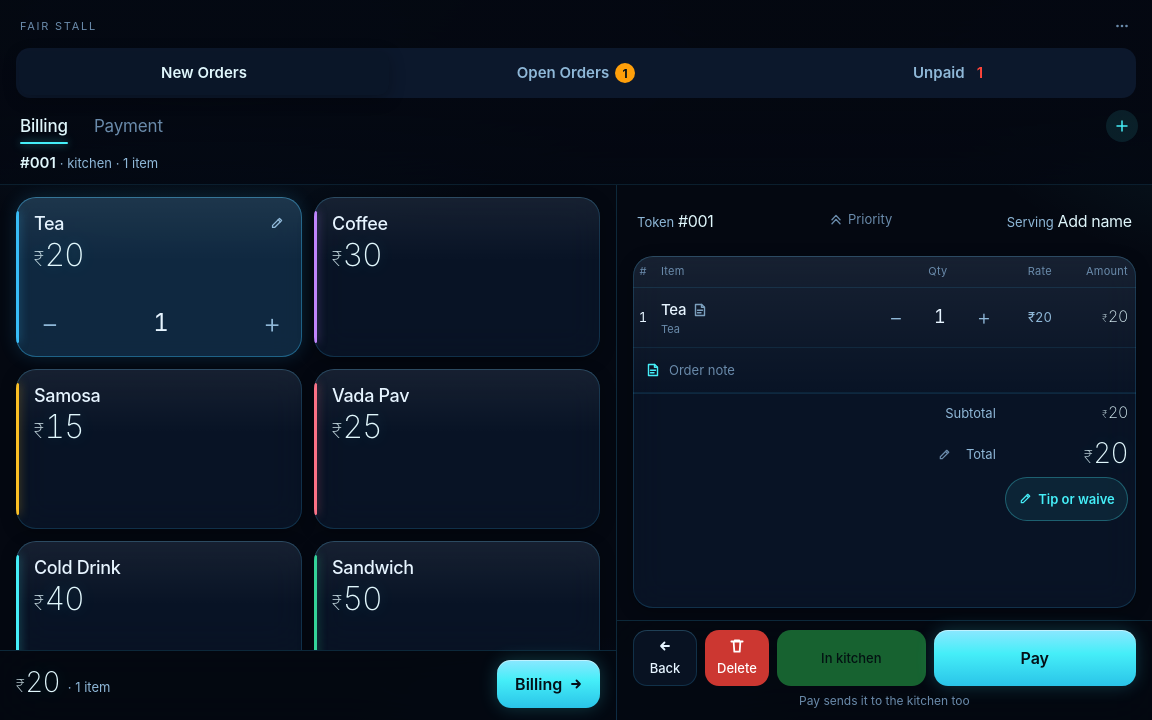
Scenario: P2 Counter › Unpaid tab lists the order with what is owed; tapping opens it; Take payment goes to Payment
Click the tab "Unpaid 1" at (948, 73), box top-left (763, 51), bottom-right (1133, 95)
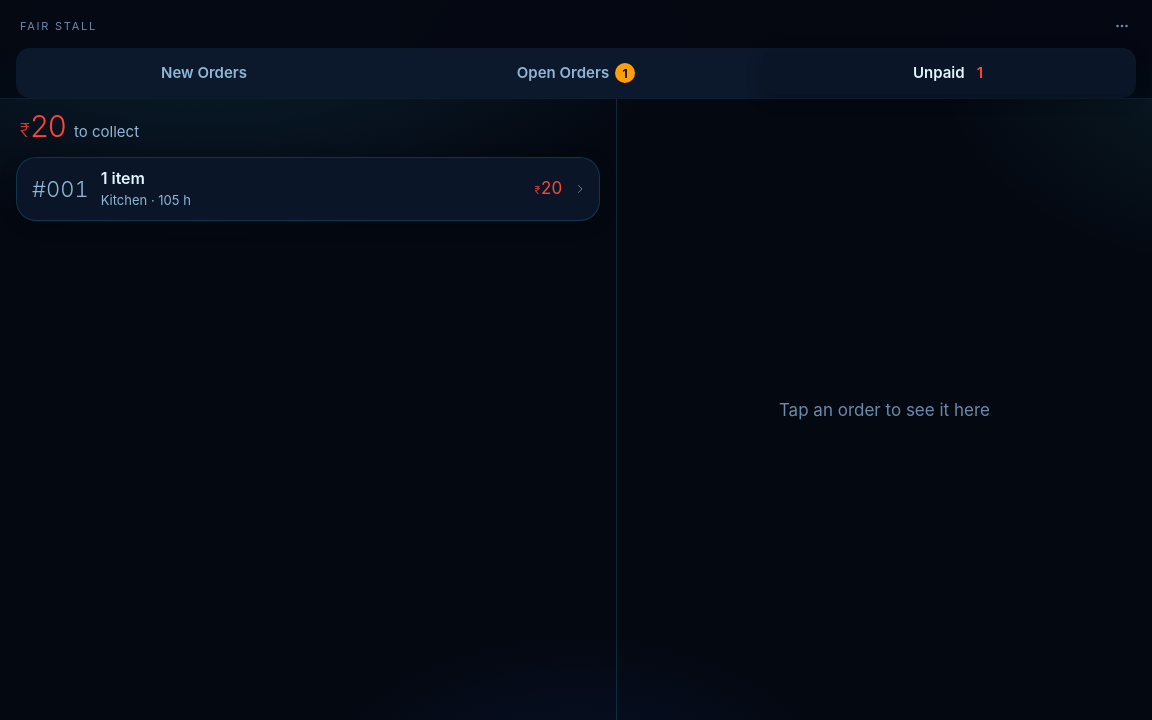
Now the text "to collect" is shown, box top-left (74, 121), bottom-right (139, 143)
Click the button "#001 1 item Kitchen · 105 h ₹20" at (60, 189), box top-left (16, 157), bottom-right (600, 221)
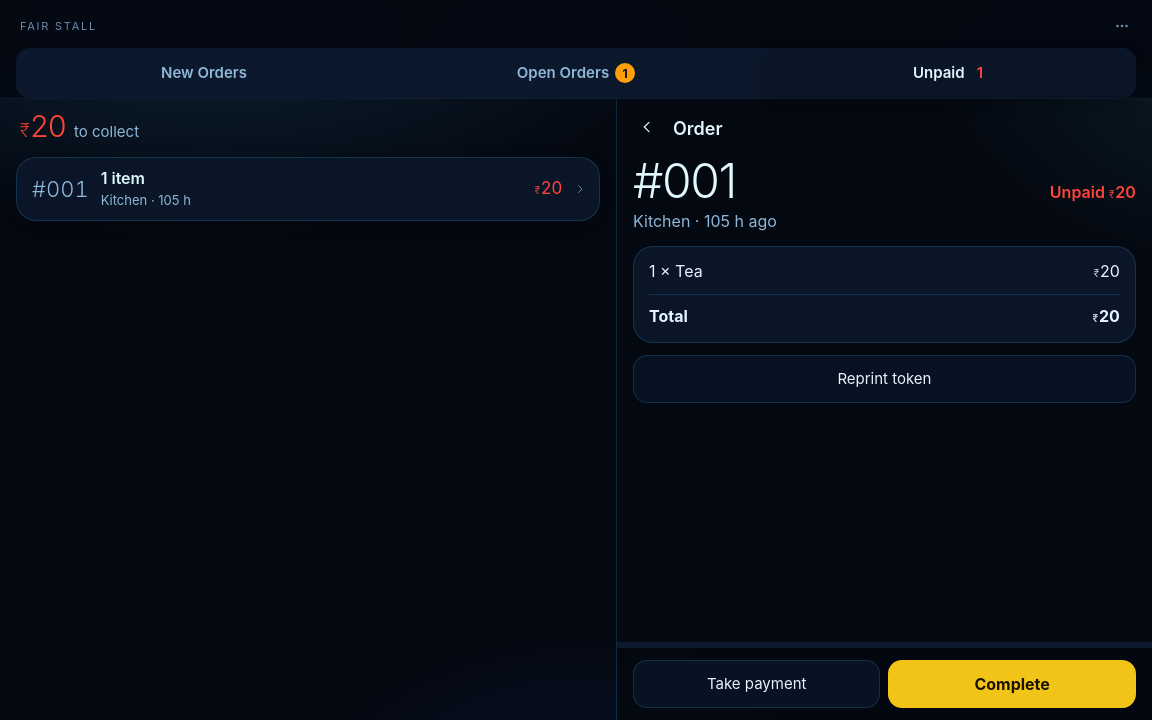
Now the button with aria-label "Complete (hold)" is shown, box top-left (889, 660), bottom-right (1136, 708)
Click the button "Take payment" at (757, 684), box top-left (633, 660), bottom-right (881, 708)
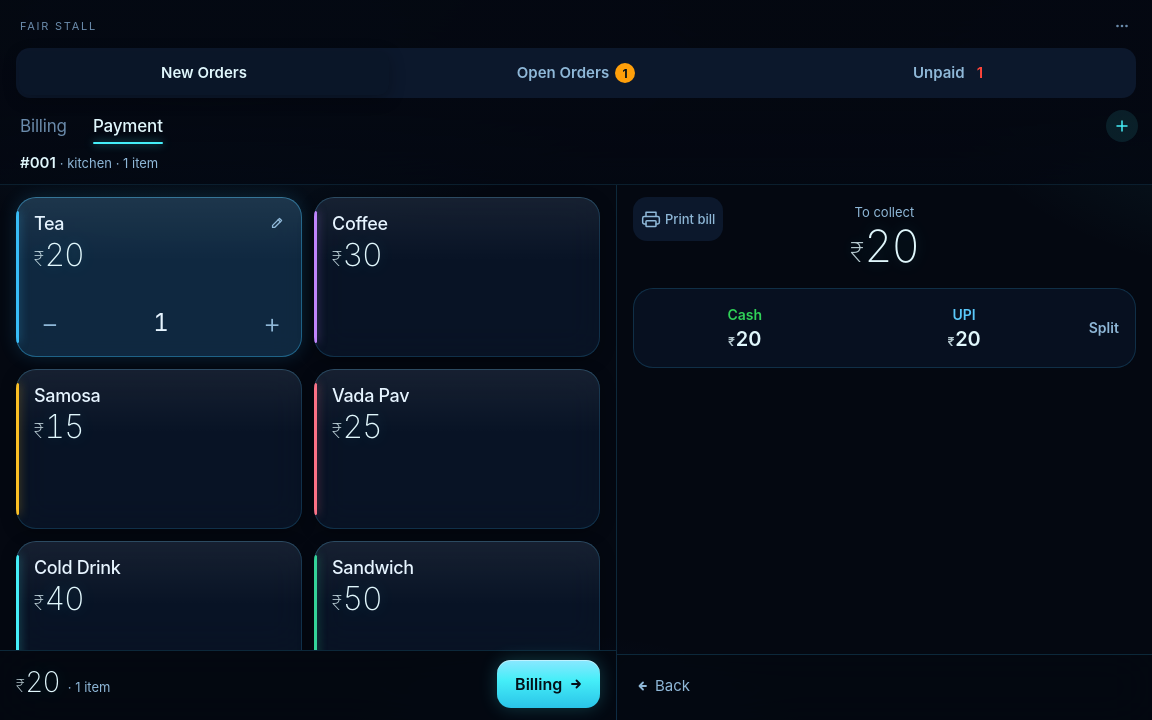
Now the element named "How to pay" is shown, box top-left (633, 288), bottom-right (1136, 368)
